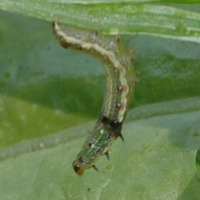insect: (53, 19, 135, 174)
